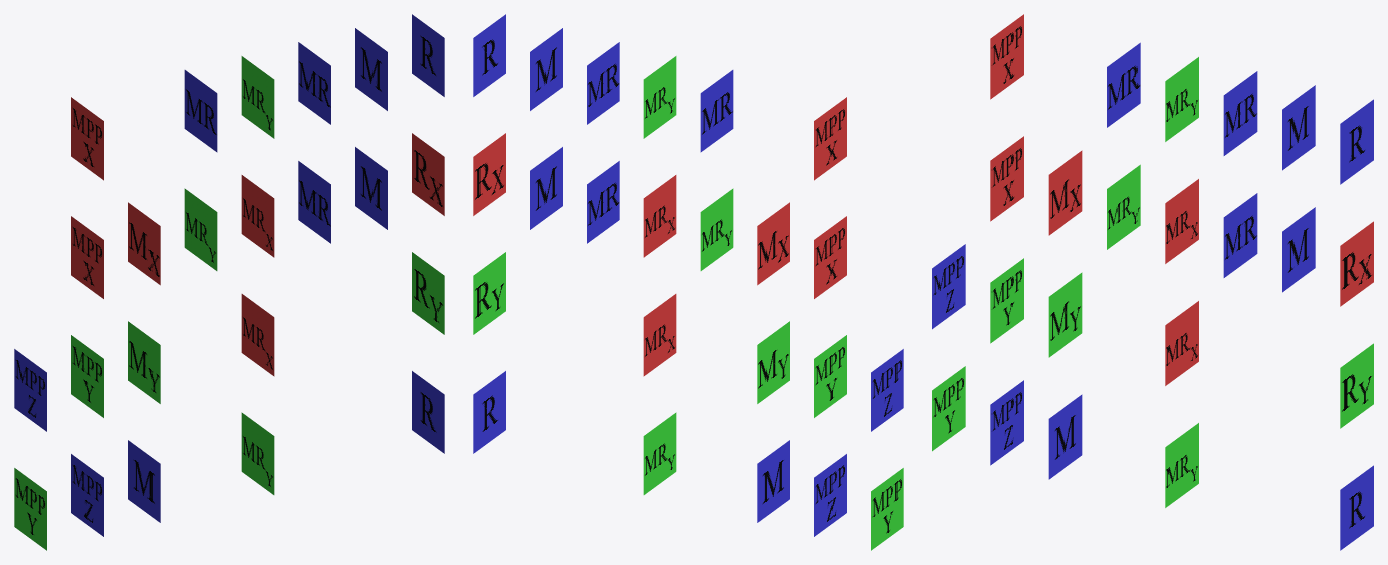
Rendered from collapsing.gltf.
3 renders of one model, left to right at view 1: azimuth 30°, elevation 25°; view 2: azimuth 150°, elevation 25°; view 3: azimuth 330°, elevation 25°, orthographic. The views are drawn at different scales.
Size of the model in its own units: 7 by 7 by 1.
1 material, 1 textured.
